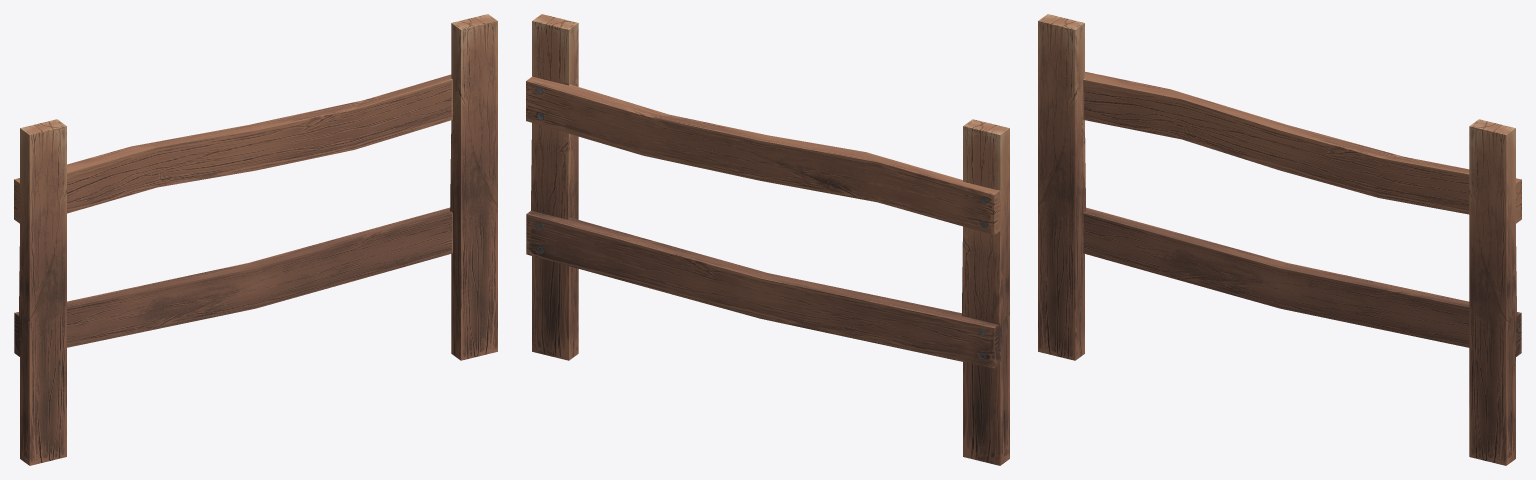
Rendered from fence.fbx.
3 views of the same model, side by side, from view 1: azimuth 30°, elevation 25°; view 2: azimuth 150°, elevation 25°; view 3: azimuth 330°, elevation 25° (orthographic).
Visible parts, largest first — view 1: Cube.001; view 2: Cube.001; view 3: Cube.001.
Boxes of the visible parts, left/top/right/bottom form: Cube.001: left=14, top=14, right=497, bottom=465; Cube.001: left=526, top=14, right=1009, bottom=465; Cube.001: left=1038, top=14, right=1521, bottom=465.
Size of the model in its own units: 6 by 4.05 by 0.3459.
